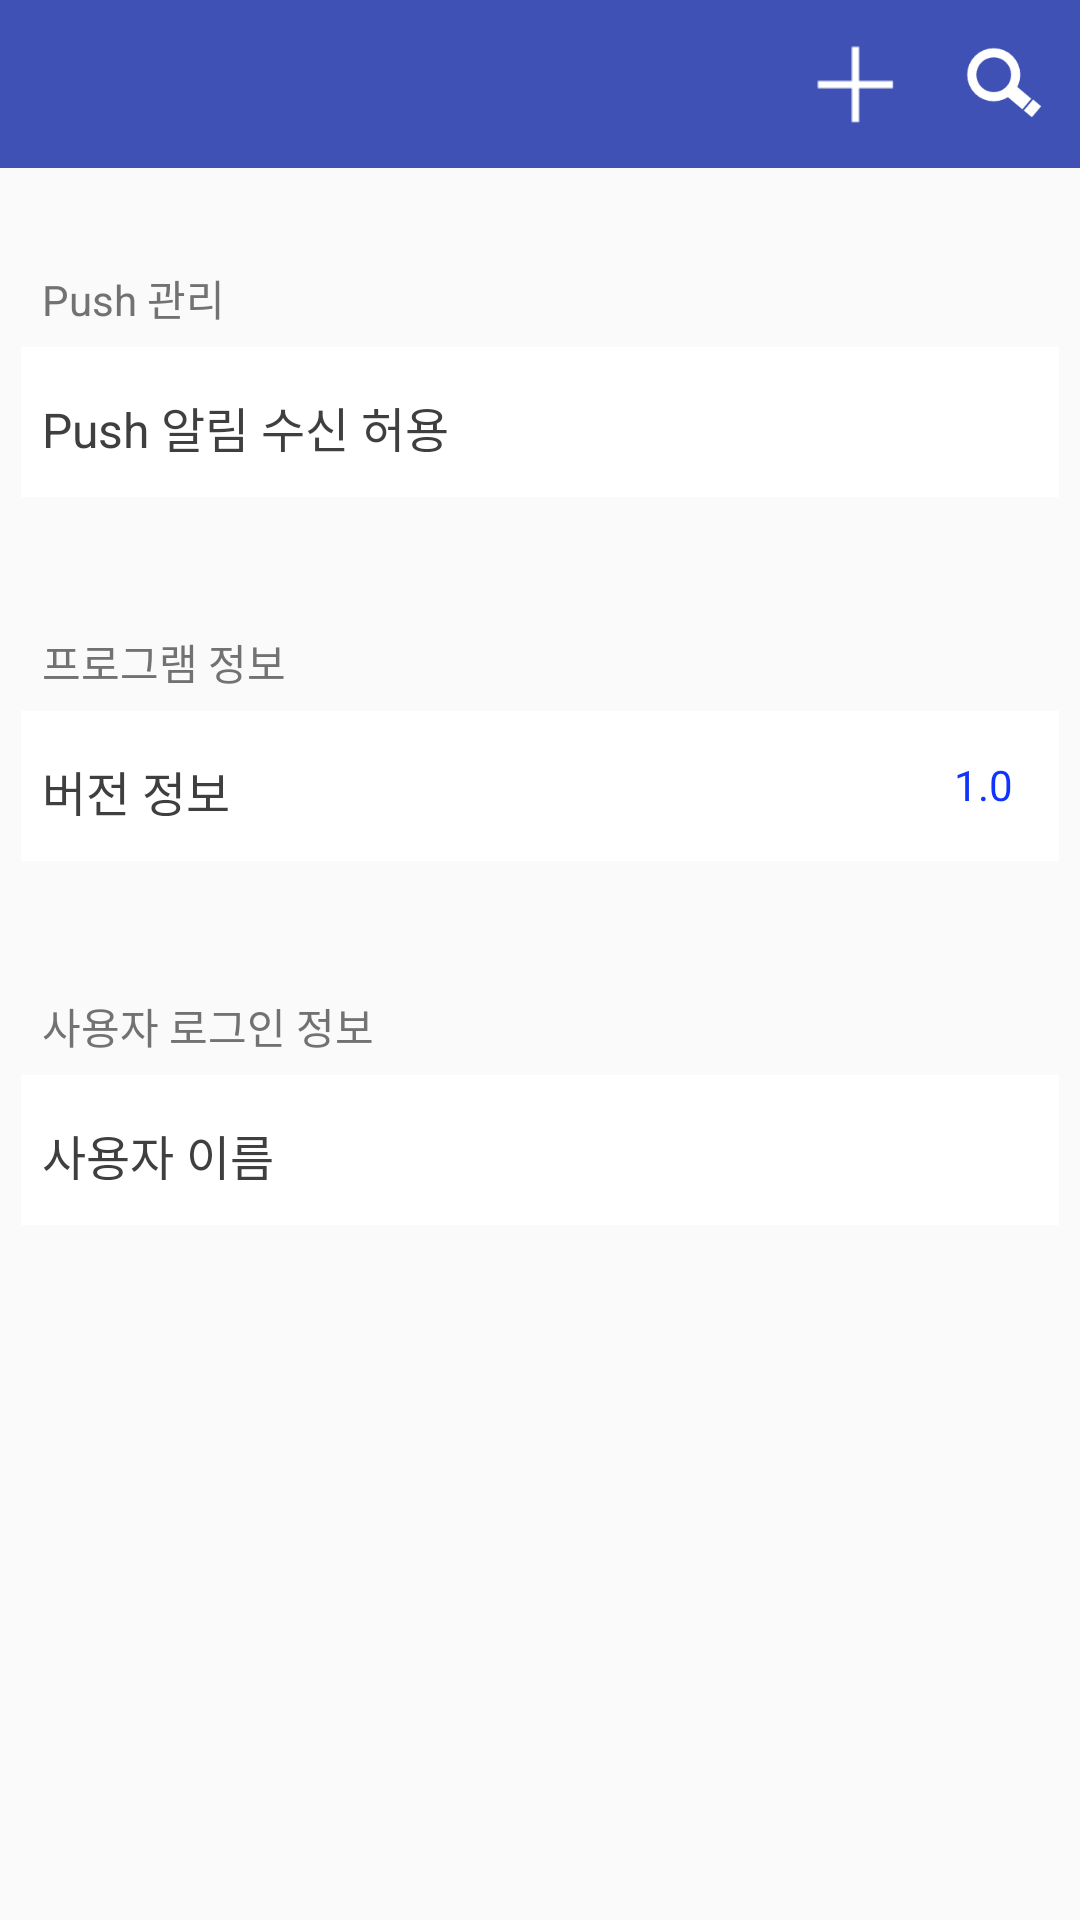

Screen size 1080 x 1920. Icon name, then its center in pixels as point (x, y):
plus: point (855, 84)
search: point (1004, 82)
